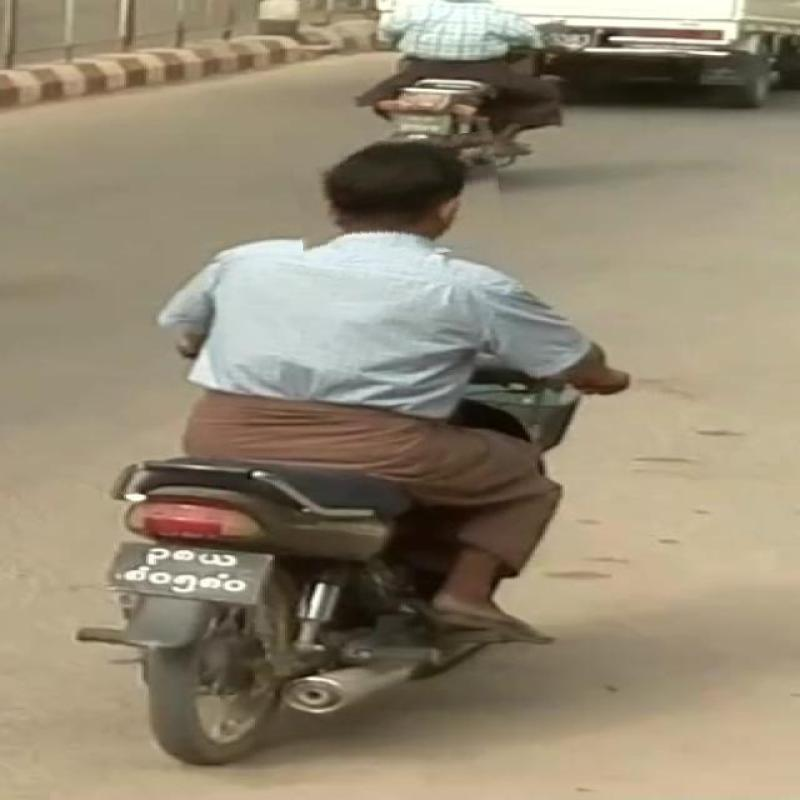nohelmet: (295, 136, 503, 264)
